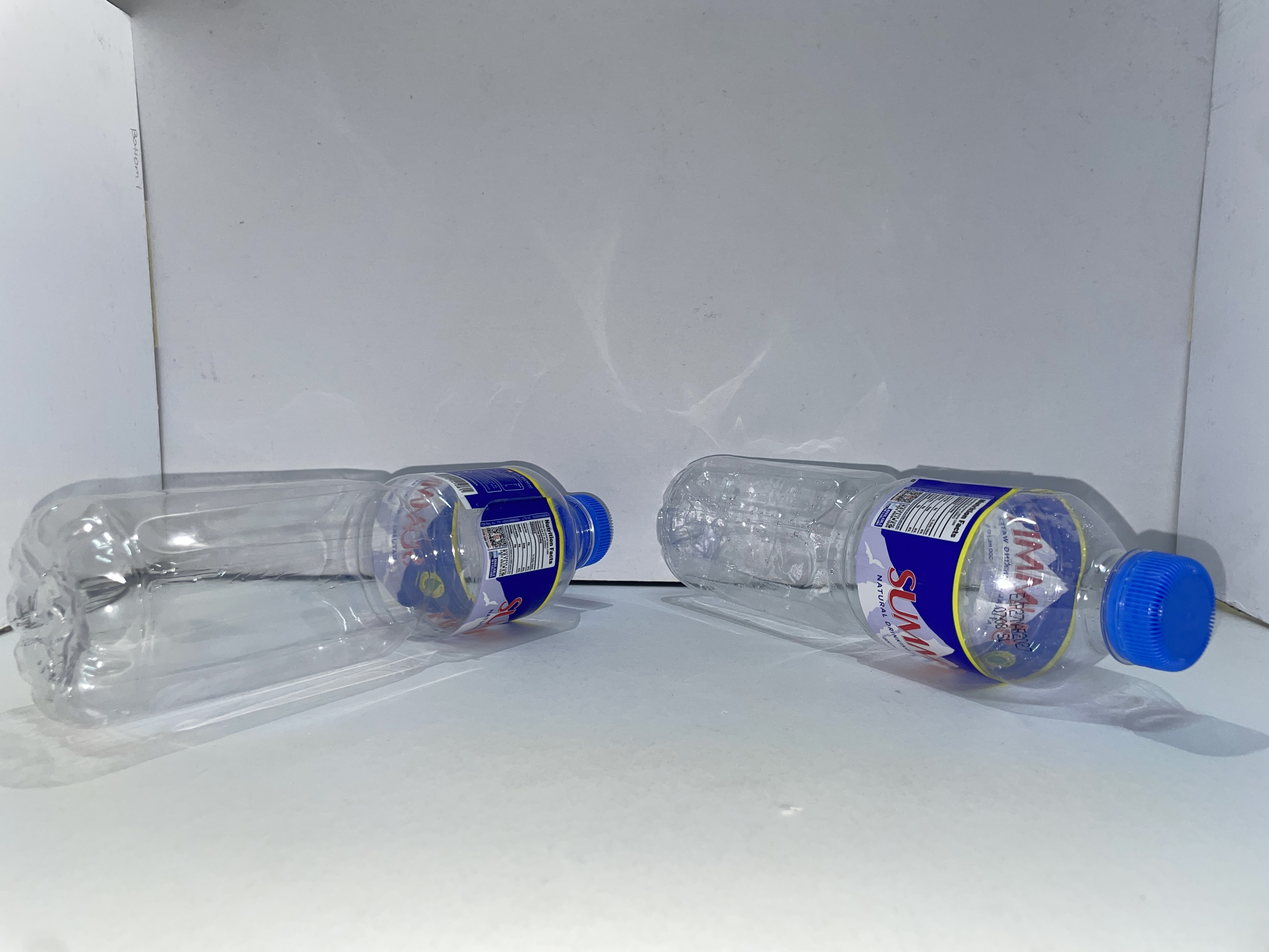Summit 500mL: (9, 463, 613, 723), (657, 455, 1215, 686)
